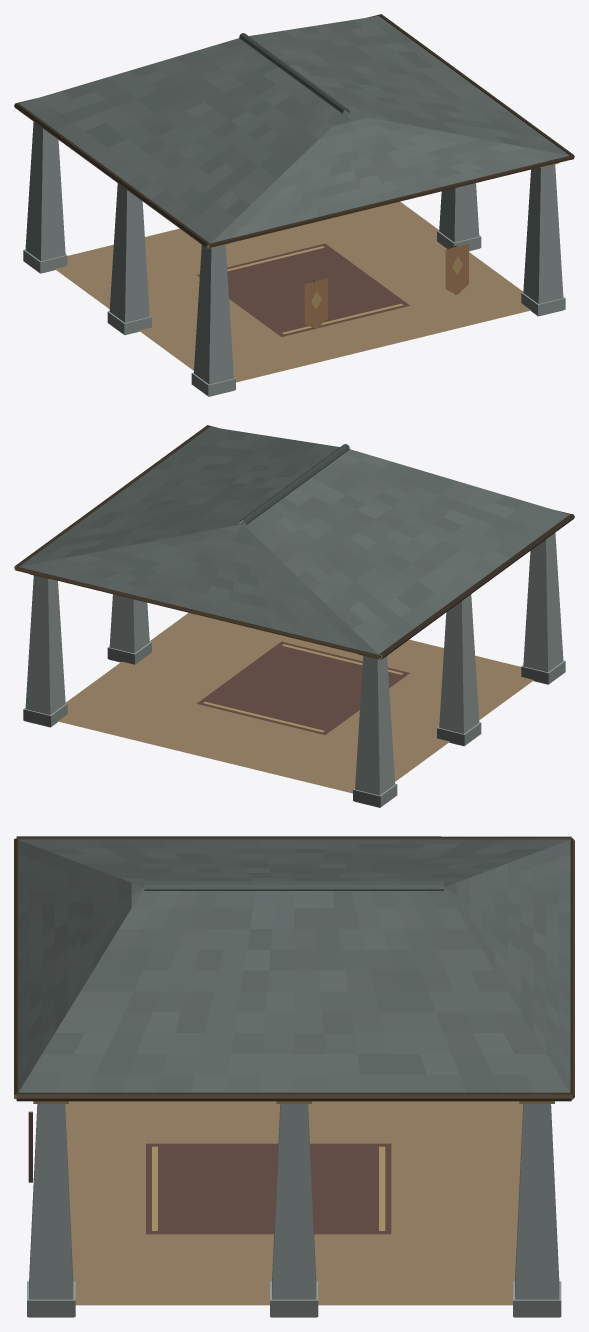
3 views of the same model, one above another, from view 1: azimuth 30°, elevation 25°; view 2: azimuth 150°, elevation 25°; view 3: azimuth 270°, elevation 25° (orthographic). The views are drawn at different scales.
Visible parts, largest first — view 1: 16f6f87bdd15425494638df809d6c24a0b5f614d7f769ac4d1b695d35e72; view 2: 16f6f87bdd15425494638df809d6c24a0b5f614d7f769ac4d1b695d35e72; view 3: 16f6f87bdd15425494638df809d6c24a0b5f614d7f769ac4d1b695d35e72.
Part boxes in pixels (left/top/right/bottom): 16f6f87bdd15425494638df809d6c24a0b5f614d7f769ac4d1b695d35e72: left=14, top=14, right=574, bottom=396; 16f6f87bdd15425494638df809d6c24a0b5f614d7f769ac4d1b695d35e72: left=14, top=425, right=574, bottom=807; 16f6f87bdd15425494638df809d6c24a0b5f614d7f769ac4d1b695d35e72: left=14, top=836, right=574, bottom=1317.
Size of the model in its own units: 12.02 by 6.71 by 10.97.
Materials: 6 (1 with a texture image).
